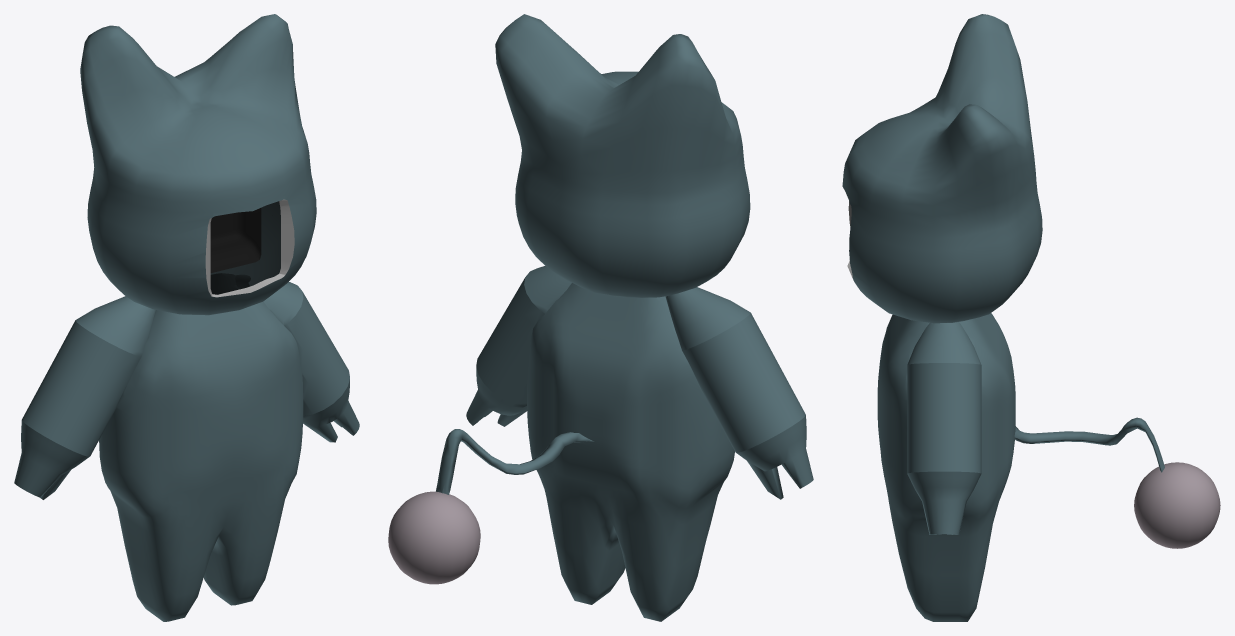
The model's file is Monster_06.fbx.
3 views of the same model, side by side, from view 1: azimuth 30°, elevation 25°; view 2: azimuth 150°, elevation 25°; view 3: azimuth 270°, elevation 25° (orthographic). The views are drawn at different scales.
Parts seen in each view (by area): view 1: Monster; view 2: Monster; view 3: Monster.
Part boxes in pixels (bbox=[...]): Monster: bbox=[14, 14, 359, 621]; Monster: bbox=[388, 14, 813, 621]; Monster: bbox=[842, 14, 1220, 621].
Bounding box in the file's own units: 41.66 × 68.65 × 42.32.
